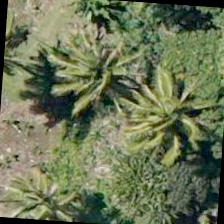Kelapa_Sawit: (55, 20, 151, 116), (119, 80, 215, 176), (3, 163, 97, 223)
